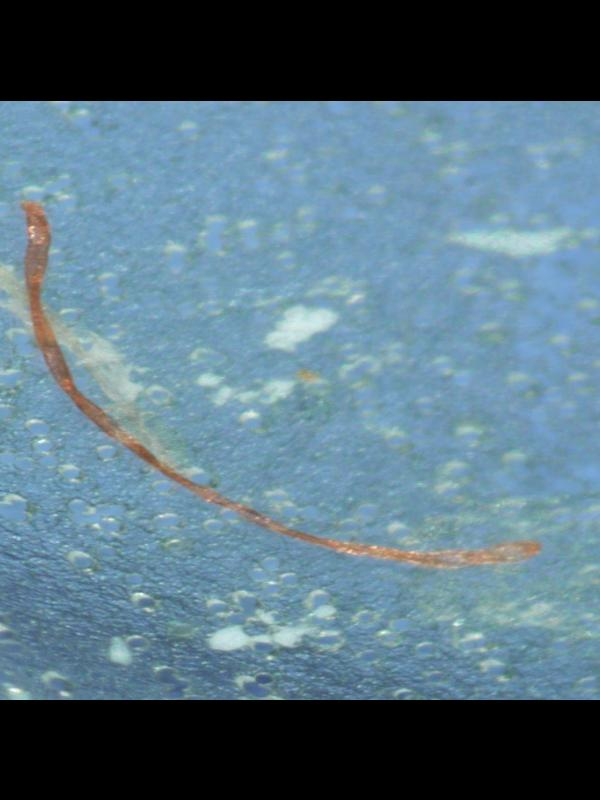microplastic: (0, 183, 543, 570)
